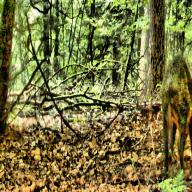boar: (159, 52, 192, 166)
